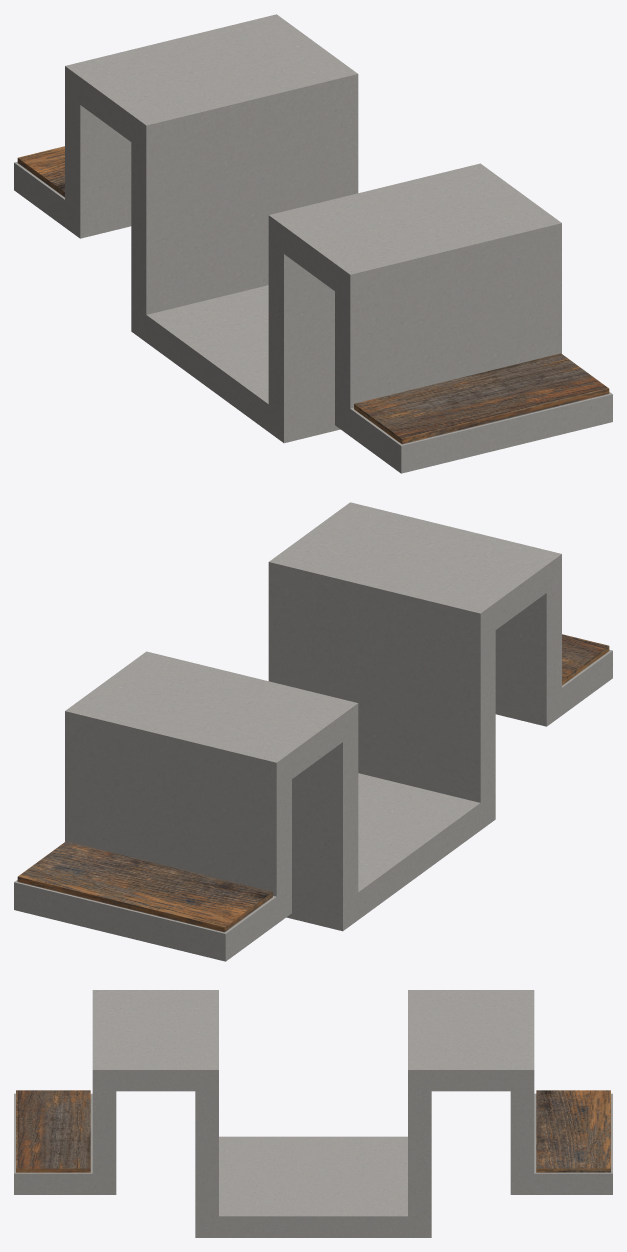
Rendered from Lavicka_Umelecka_Stavebka.fbx.
3 renders of one model, top to bottom at view 1: azimuth 30°, elevation 25°; view 2: azimuth 150°, elevation 25°; view 3: azimuth 270°, elevation 25°, orthographic. The views are drawn at different scales.
Visible parts, largest first — view 1: Lavicka_Umelecka_Stavebka; view 2: Lavicka_Umelecka_Stavebka; view 3: Lavicka_Umelecka_Stavebka.
Part boxes in pixels (x1,y1,x2,y2): Lavicka_Umelecka_Stavebka: [14, 14, 612, 473]; Lavicka_Umelecka_Stavebka: [14, 502, 612, 961]; Lavicka_Umelecka_Stavebka: [14, 990, 612, 1237].
Bounding box in the file's own units: 120 × 118 × 380.
